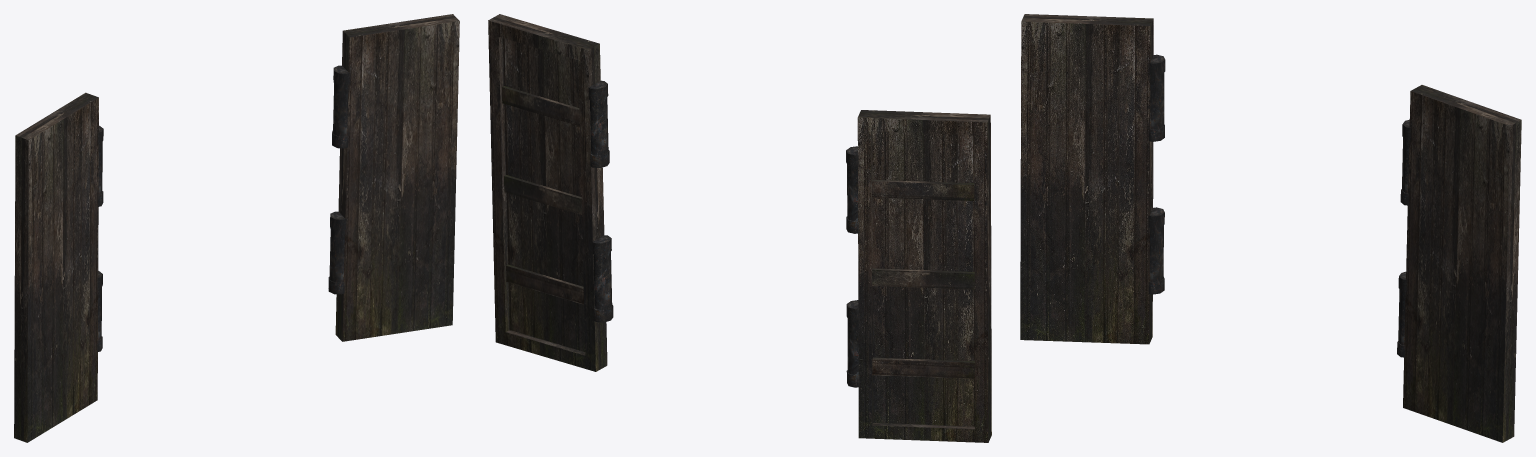
File: Window_Barriers_02.fbx
The picture shows the model from 3 angles, left to right: view 1: azimuth 30°, elevation 25°; view 2: azimuth 150°, elevation 25°; view 3: azimuth 330°, elevation 25°; orthographic projection. The views are drawn at different scales.
Visible parts, largest first — view 1: Window_Barriers_02; view 2: Window_Barriers_02; view 3: Window_Barriers_02.
Boxes of the visible parts, box(x1,y1,x2,y2) form: Window_Barriers_02: box(14, 14, 459, 442); Window_Barriers_02: box(488, 14, 991, 442); Window_Barriers_02: box(1020, 14, 1521, 442).
Bounding box in the file's own units: 158 × 101 × 21.56.
